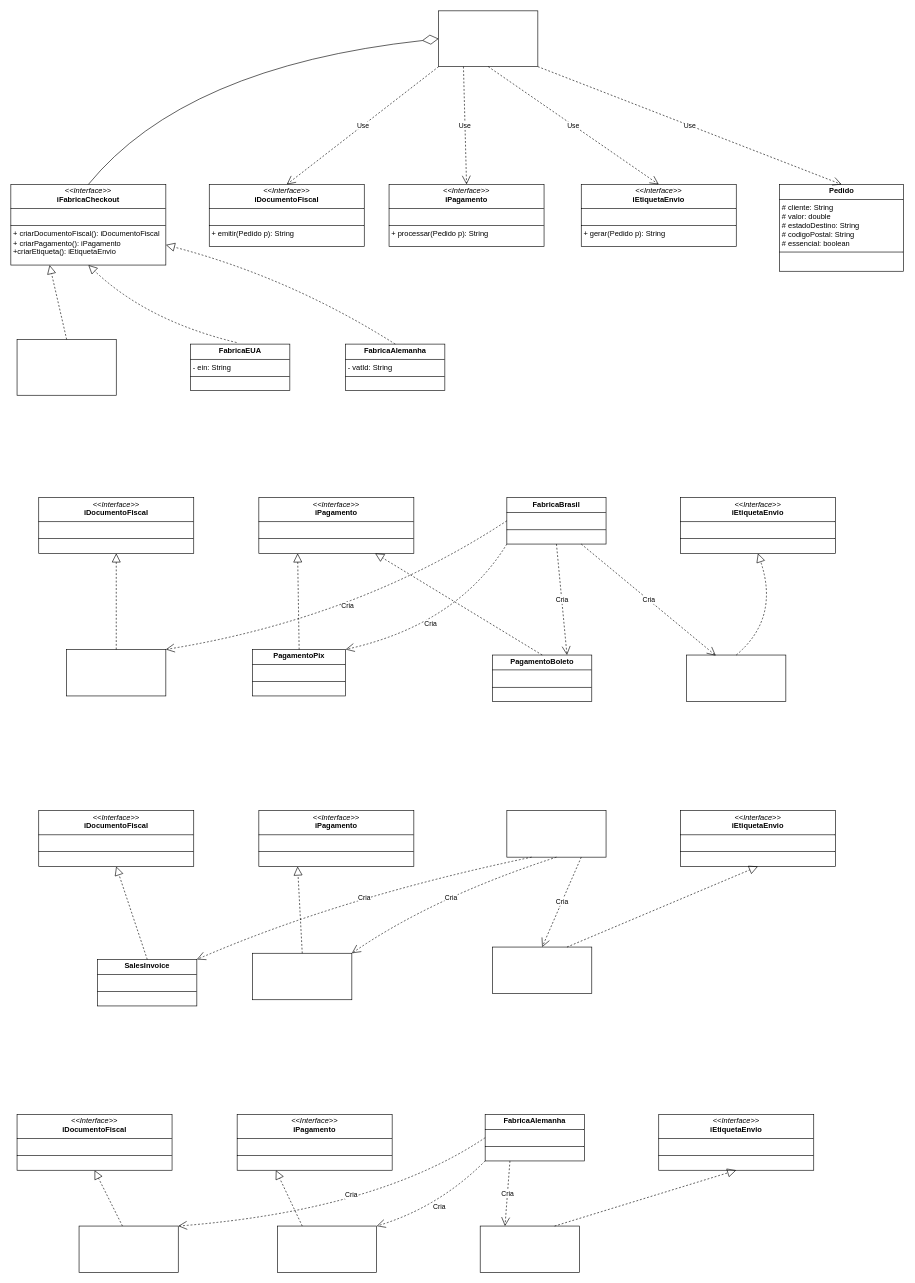
Some shapes in this 915 by 1283 pixel diagram are drawn without their labels. The shapes that lost their labels are listed below. From the top down, each one's centre as x and y in pixels, then its label:
At [488,38]: "Checkout - fabrica: iFabricaCheckout + finalizar(Pedido p): void".
At [66,367]: "FabricaBrasil - ufOrigem: String - pagamentoPix: boolean".
At [116,672]: "NotaFiscalEletronica".
At [736,678]: "EtiquetaCorreios".
At [556,833]: "FabricaEUA".
At [302,976]: "PagamentoCartaoAVS".
At [542,970]: "EtiquetaUSPS".
At [128,1249]: "VatInvoice".
At [327,1249]: "PagamentoSepa".
At [529,1249]: "EtiquetaDeutschePost".
